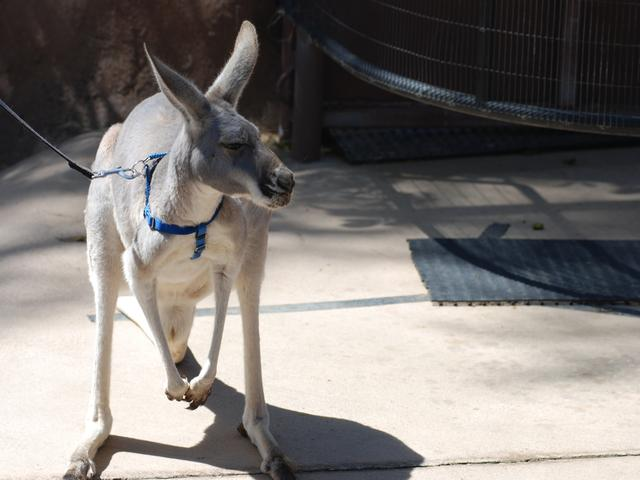kangaroo: (39, 16, 345, 480)
